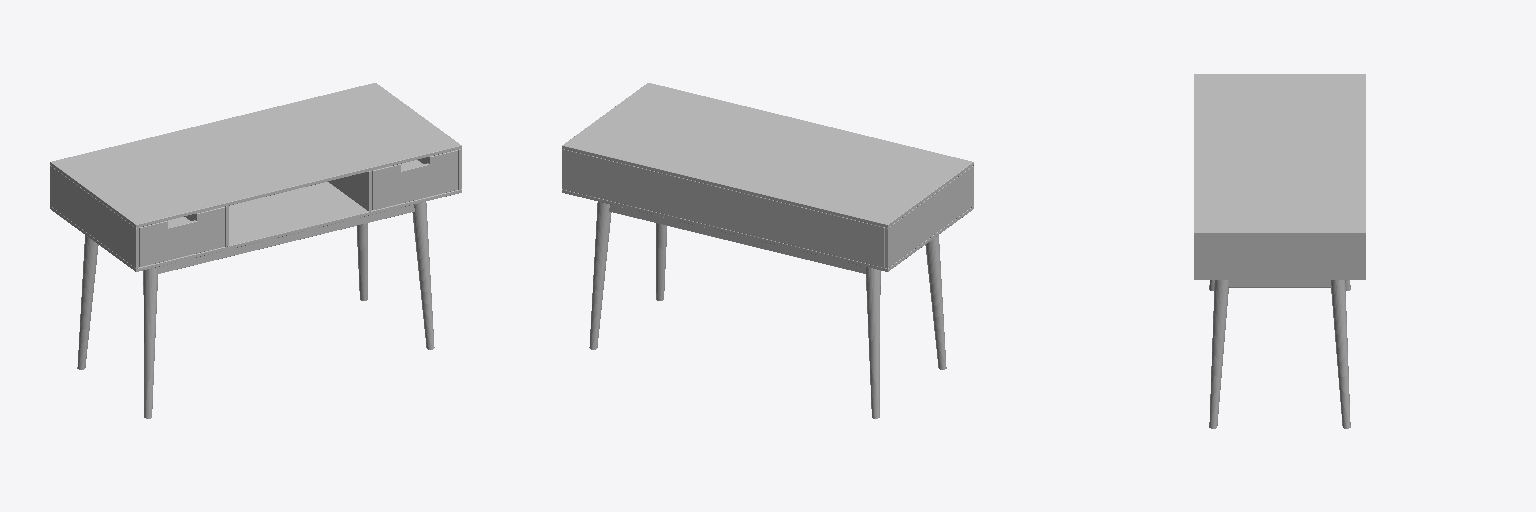
File: meja.obj
3 views of the same model, side by side, from view 1: azimuth 30°, elevation 25°; view 2: azimuth 150°, elevation 25°; view 3: azimuth 270°, elevation 25° (orthographic).
Visible parts, largest first — view 1: frame, drawer, stand, supports; view 2: frame, stand, supports; view 3: frame, stand, supports.
Boxes of the visible parts, x1,y1,x2,y2 form: frame: [50, 83, 461, 271]; drawer: [139, 150, 457, 266]; stand: [77, 202, 434, 418]; supports: [158, 205, 414, 273]; frame: [562, 83, 973, 271]; stand: [589, 202, 946, 418]; supports: [609, 205, 865, 273]; frame: [1194, 74, 1365, 279]; stand: [1209, 280, 1350, 428]; supports: [1228, 280, 1331, 287].
Size of the model in its own units: 1.2 by 0.72 by 0.55.